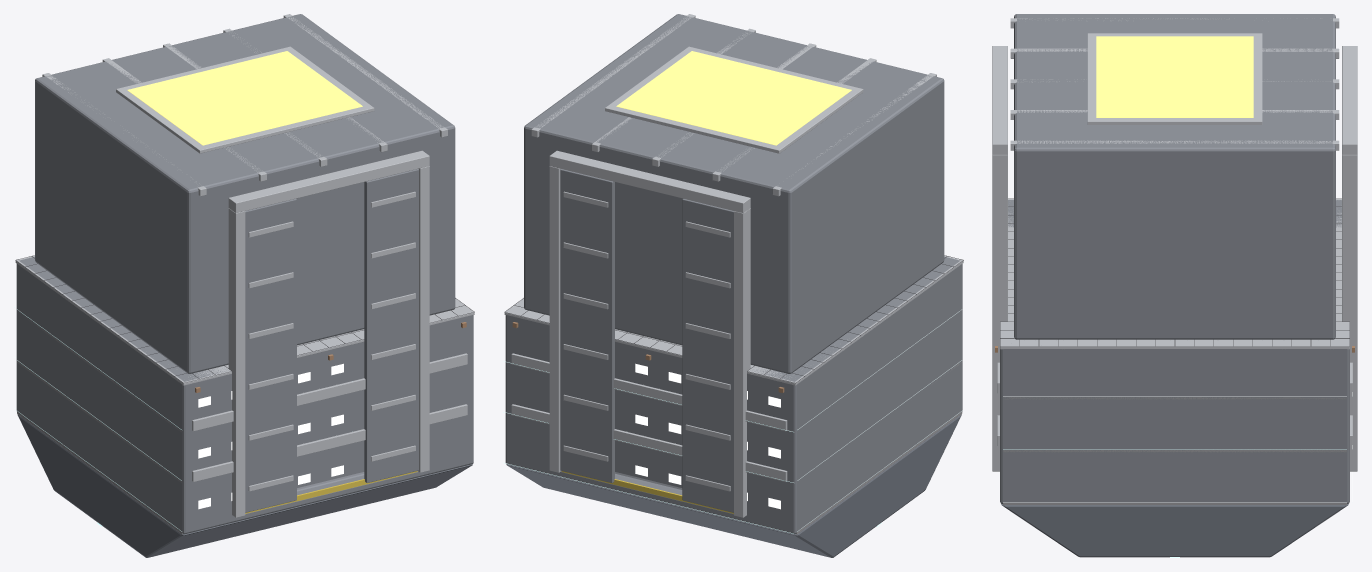
Rendered from ship_hangar_18x18.glb.
3 views of the same model, side by side, from view 1: azimuth 30°, elevation 25°; view 2: azimuth 150°, elevation 25°; view 3: azimuth 270°, elevation 25° (orthographic). The views are drawn at different scales.
Visible parts, largest first — view 1: ext_hump, ext_hull, ext_door02, ext_door00, ext_launch_glow, ext_door_frame0, ext_hull_belly, ext_armor_plates, ext_launch_frame, ext_deck_top, ext_hump_ribs, ext_door_ribs00 (+3 smaller); view 2: ext_hump, ext_hull, ext_door22, ext_door20, ext_launch_glow, ext_door_frame2, ext_hull_belly, ext_armor_plates, ext_launch_frame, ext_deck_top, ext_hump_ribs, ext_door_ribs20 (+3 smaller); view 3: ext_hump, ext_hull, ext_hull_belly, ext_launch_glow, ext_door_frame0, ext_door_frame2, ext_deck_top, ext_launch_frame, ext_hump_ribs, int_deck1, ext_deck_grid, int_deck0 (+1 smaller).
Boxes of the visible parts, x1=… form: ext_hump: x1=35, y1=14, x2=455, y2=373; ext_hull: x1=16, y1=257, x2=473, y2=534; ext_door02: x1=364, y1=169, x2=418, y2=482; ext_door00: x1=245, y1=198, x2=296, y2=512; ext_launch_glow: x1=127, y1=51, x2=362, y2=145; ext_door_frame0: x1=228, y1=150, x2=429, y2=517; ext_hull_belly: x1=17, y1=414, x2=472, y2=557; ext_armor_plates: x1=192, y1=353, x2=467, y2=481; ext_launch_frame: x1=116, y1=46, x2=374, y2=153; ext_deck_top: x1=15, y1=256, x2=474, y2=385; ext_hump_ribs: x1=42, y1=14, x2=447, y2=196; ext_door_ribs00: x1=248, y1=221, x2=293, y2=491; ext_hump: x1=524, y1=14, x2=944, y2=373; ext_hull: x1=505, y1=257, x2=962, y2=534; ext_door22: x1=560, y1=169, x2=614, y2=482; ext_door20: x1=682, y1=198, x2=733, y2=512; ext_launch_glow: x1=616, y1=51, x2=851, y2=145; ext_door_frame2: x1=549, y1=150, x2=750, y2=517; ext_hull_belly: x1=506, y1=414, x2=961, y2=557; ext_armor_plates: x1=511, y1=353, x2=787, y2=481; ext_launch_frame: x1=605, y1=46, x2=863, y2=153; ext_deck_top: x1=504, y1=256, x2=963, y2=385; ext_hump_ribs: x1=531, y1=14, x2=936, y2=196; ext_door_ribs20: x1=685, y1=221, x2=730, y2=491; ext_hump: x1=1014, y1=14, x2=1335, y2=339; ext_hull: x1=1000, y1=200, x2=1349, y2=503; ext_hull_belly: x1=1001, y1=504, x2=1348, y2=557; ext_launch_glow: x1=1096, y1=36, x2=1253, y2=117; ext_door_frame0: x1=992, y1=46, x2=1007, y2=471; ext_door_frame2: x1=1342, y1=46, x2=1357, y2=471; ext_deck_top: x1=1000, y1=199, x2=1349, y2=349; ext_launch_frame: x1=1087, y1=33, x2=1262, y2=124; ext_hump_ribs: x1=1010, y1=18, x2=1339, y2=150; int_deck1: x1=1003, y1=449, x2=1346, y2=452; ext_deck_grid: x1=1000, y1=198, x2=1349, y2=346; int_deck0: x1=1003, y1=503, x2=1346, y2=504.
Size of the model in its own units: 18.02 by 23.12 by 18.8.
